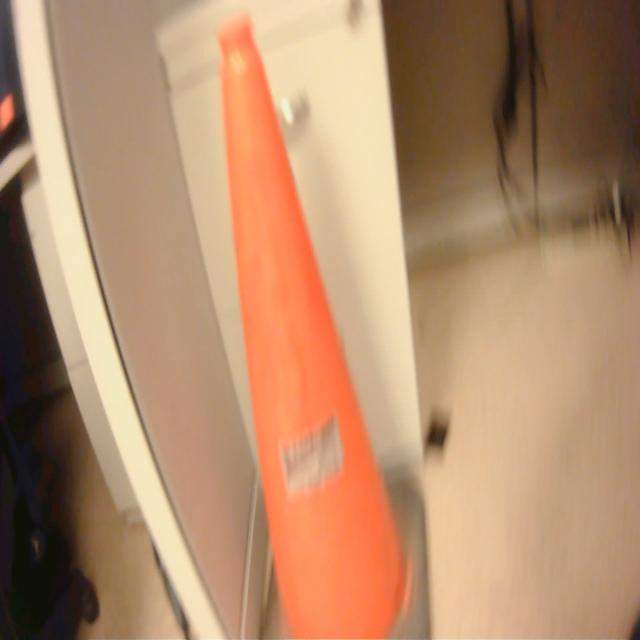traffic cone: (212, 6, 441, 640)
